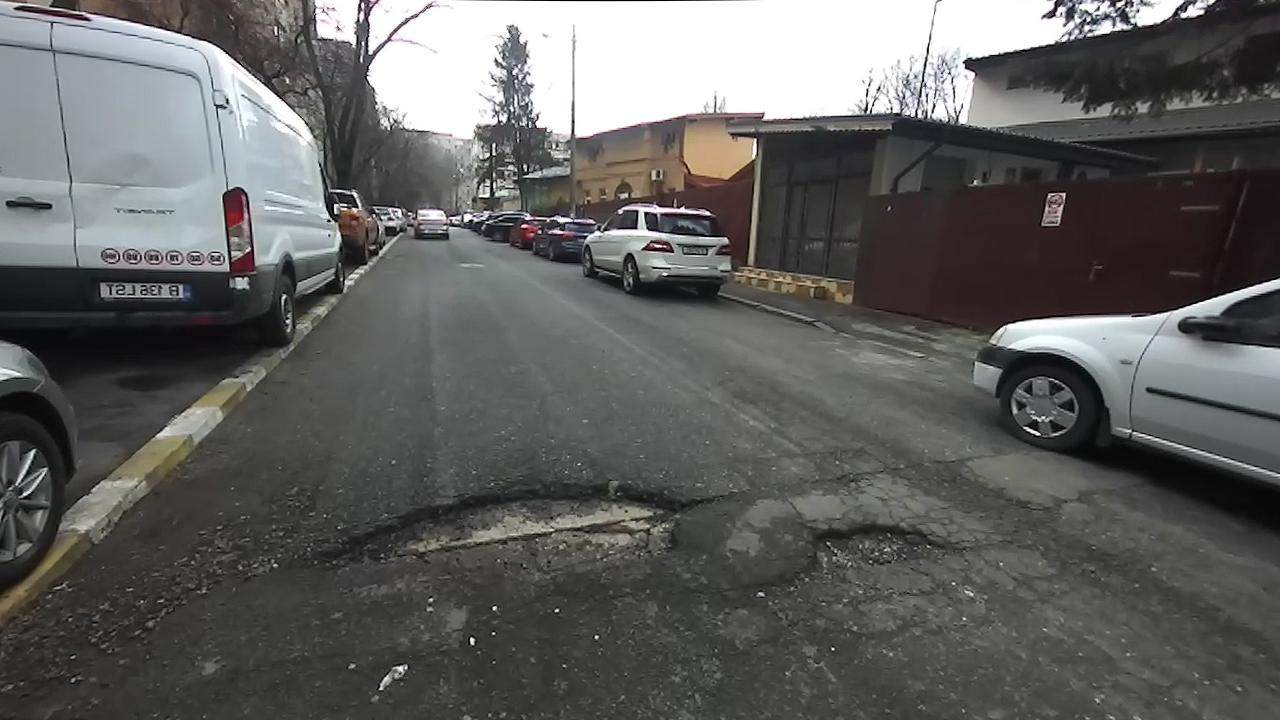pothole: (276, 469, 710, 592), (755, 517, 957, 594)
